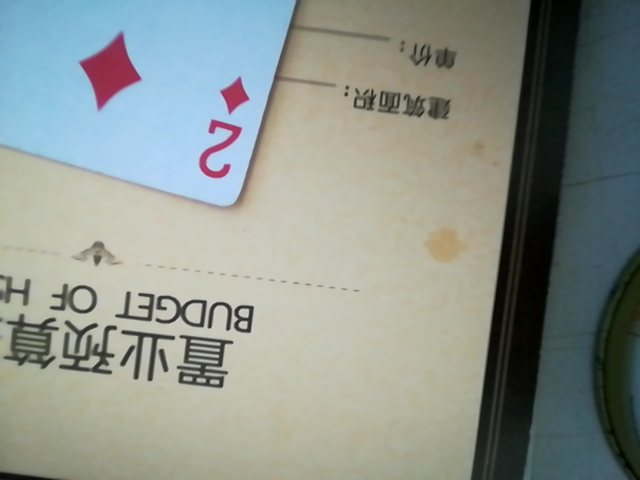fk 2: (4, 0, 367, 217)
